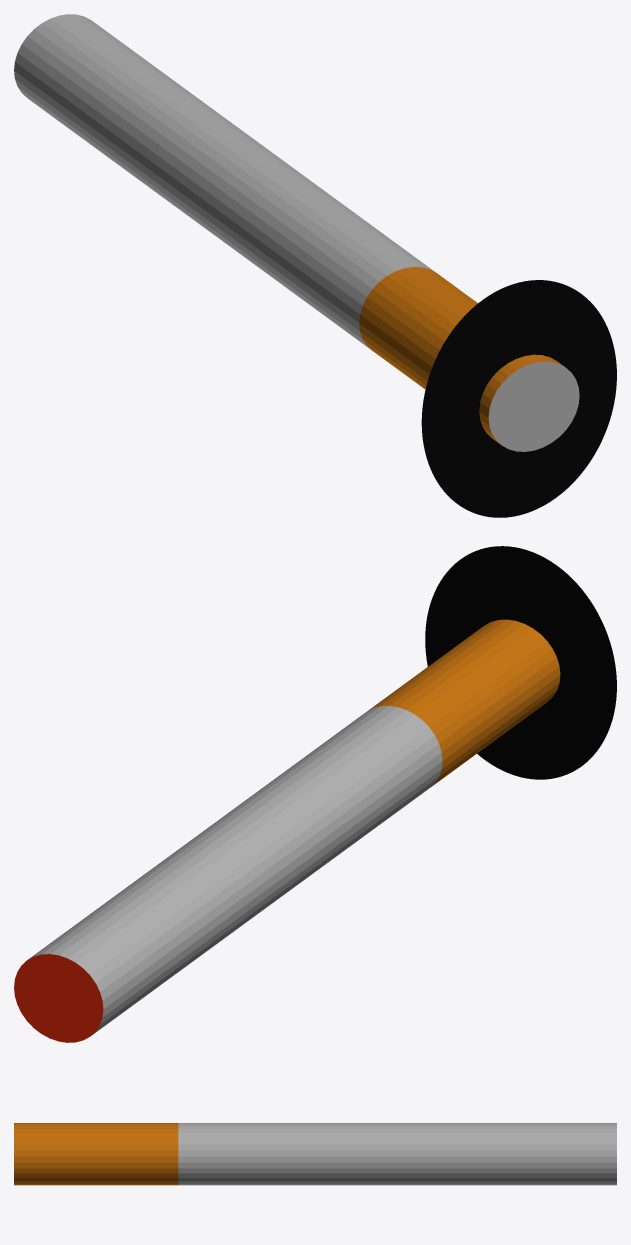
File: Cigarette.fbx
3 renders of one model, top to bottom at view 1: azimuth 30°, elevation 25°; view 2: azimuth 150°, elevation 25°; view 3: azimuth 270°, elevation 25°, orthographic. The views are drawn at different scales.
Parts seen in each view (by area): view 1: Cylinder.042; view 2: Cylinder.042; view 3: Cylinder.042.
Boxes of the visible parts, x1,y1,x2,y2 form: Cylinder.042: (14,14,616,517); Cylinder.042: (14,546,616,1042); Cylinder.042: (14,1123,616,1185).
Size of the model in its own units: 11.05 by 12.6 by 46.5.
